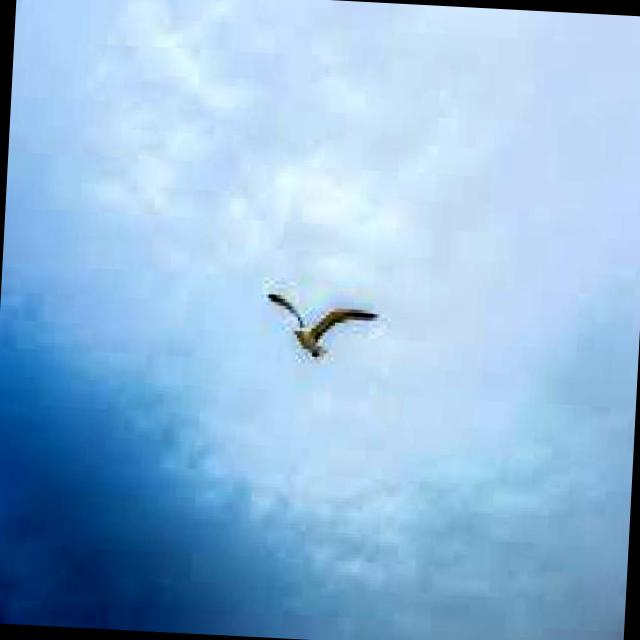bird: (259, 282, 379, 370)
